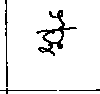ai_matra: (49, 10, 67, 29)
